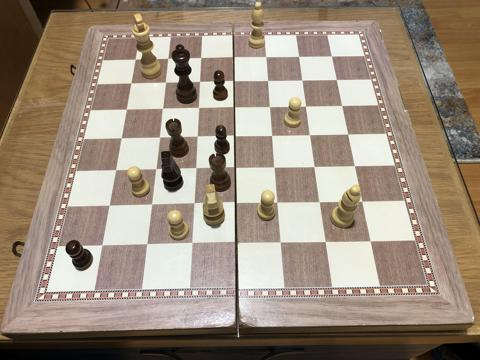xcorner: (326, 52, 338, 64), (293, 52, 305, 64), (261, 53, 273, 65), (228, 53, 240, 65), (196, 54, 208, 66), (163, 55, 175, 67), (130, 55, 142, 67), (331, 75, 343, 87), (297, 76, 309, 88), (263, 76, 275, 88), (194, 77, 206, 89), (160, 78, 172, 90), (126, 79, 138, 91), (336, 101, 348, 113), (300, 101, 312, 113), (265, 102, 277, 114), (193, 103, 205, 115), (157, 104, 169, 116), (121, 104, 133, 116), (342, 129, 354, 141), (305, 130, 317, 142), (267, 130, 279, 142), (229, 131, 241, 143), (154, 132, 166, 144), (116, 133, 128, 145), (349, 160, 361, 172), (309, 161, 321, 173), (269, 162, 281, 174), (230, 162, 242, 174), (190, 163, 202, 175), (150, 164, 162, 176), (110, 165, 122, 177), (356, 195, 368, 207), (314, 196, 326, 208), (272, 197, 284, 209), (230, 198, 242, 210), (188, 198, 200, 210), (146, 199, 158, 211), (104, 200, 116, 212), (320, 236, 332, 248), (275, 236, 287, 248), (230, 237, 242, 249), (186, 238, 198, 250), (141, 239, 153, 251), (96, 240, 108, 252), (229, 77, 240, 89), (229, 103, 241, 114), (192, 132, 203, 144), (365, 235, 376, 247)
